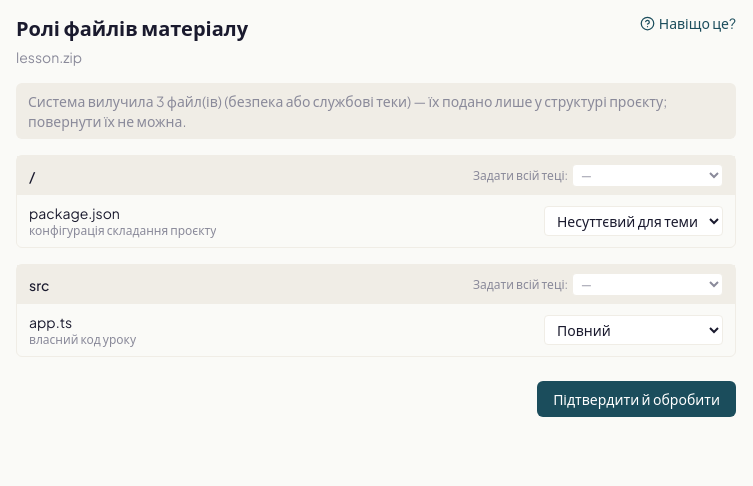
ConfirmRolesPage › on 409 file_roles_stale re-reads the document and shows a notice
This screenshot has width=753, height=486.
Click the button "Підтвердити й обробити". click: (637, 399)
box: [537,381,736,417]
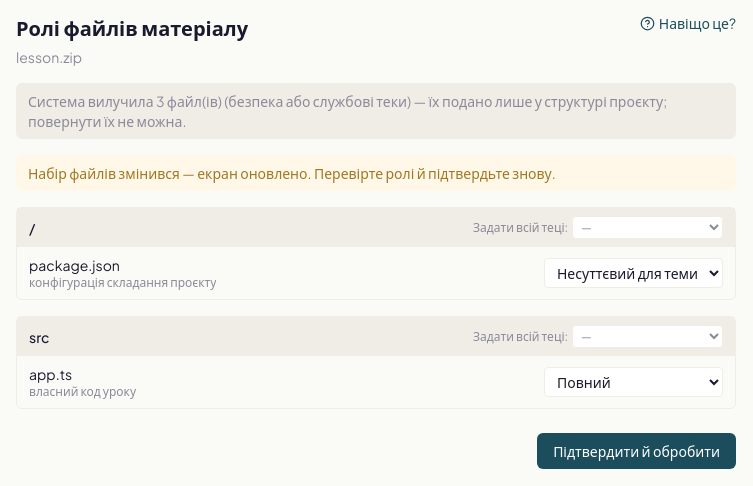
Expected: the text "екран оновлено" is shown, [28,164,556,182]
